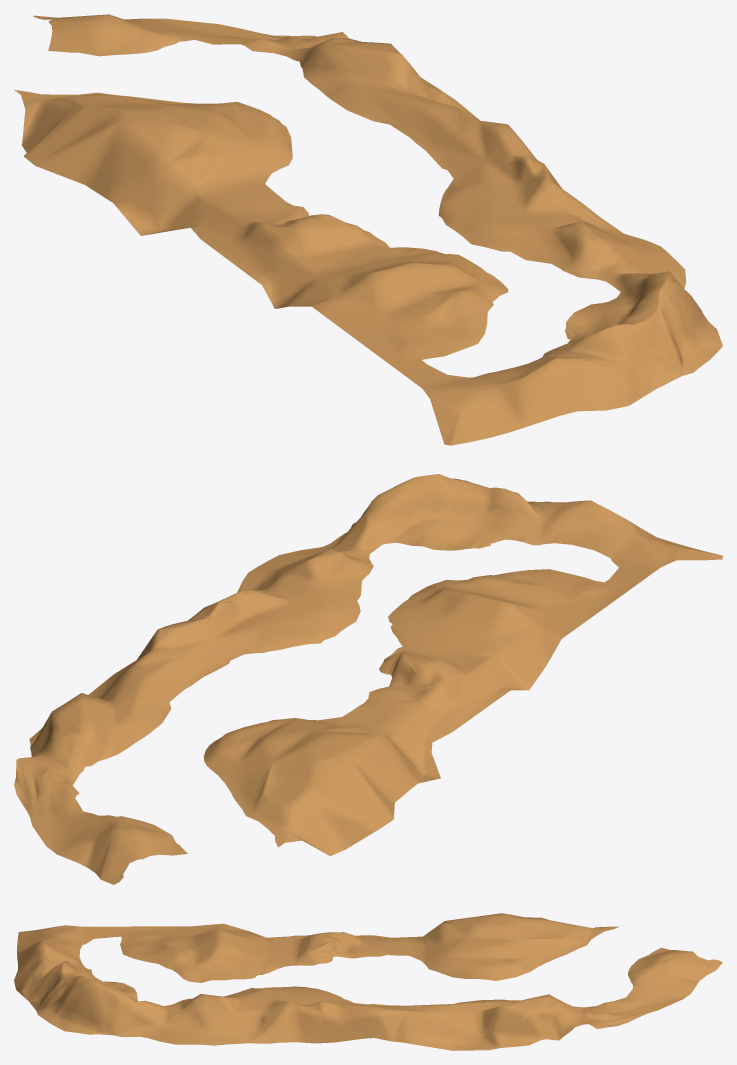
File: Desert_Hills.fbx
3 views of the same model, one above another, from view 1: azimuth 30°, elevation 25°; view 2: azimuth 150°, elevation 25°; view 3: azimuth 270°, elevation 25° (orthographic). The views are drawn at different scales.
Visible parts, largest first — view 1: Desert_Hills; view 2: Desert_Hills; view 3: Desert_Hills.
Part boxes in pixels (x1,y1,x2,y2): Desert_Hills: (14, 14, 722, 445); Desert_Hills: (14, 474, 722, 884); Desert_Hills: (14, 913, 722, 1050).
Bounding box in the file's own units: 5756 × 1005 × 13640.
